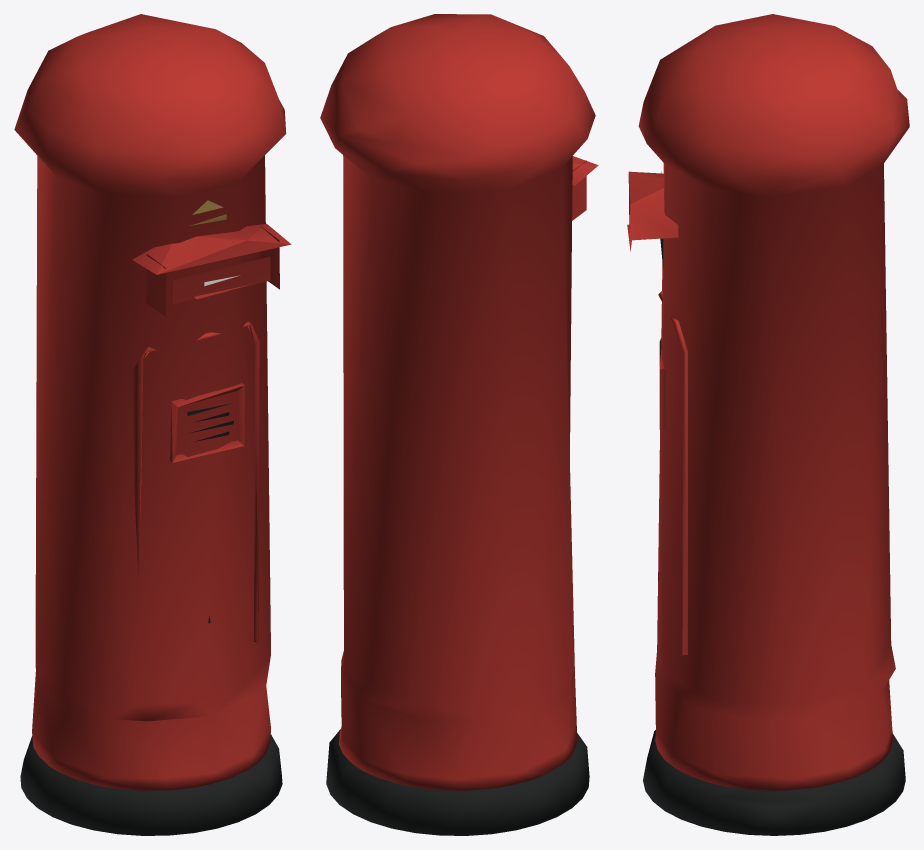
Rendered from postBox.far.glb.
3 views of the same model, side by side, from view 1: azimuth 30°, elevation 25°; view 2: azimuth 150°, elevation 25°; view 3: azimuth 270°, elevation 25° (orthographic).
Parts seen in each view (by area): view 1: postBox_far; view 2: postBox_far; view 3: postBox_far.
Boxes of the visible parts, box(x1,y1,x2,y2) form: postBox_far: box(14, 14, 291, 835); postBox_far: box(320, 14, 598, 835); postBox_far: box(627, 14, 909, 835).
Bounding box in the file's own units: 0.5034 × 1.53 × 0.5268.
